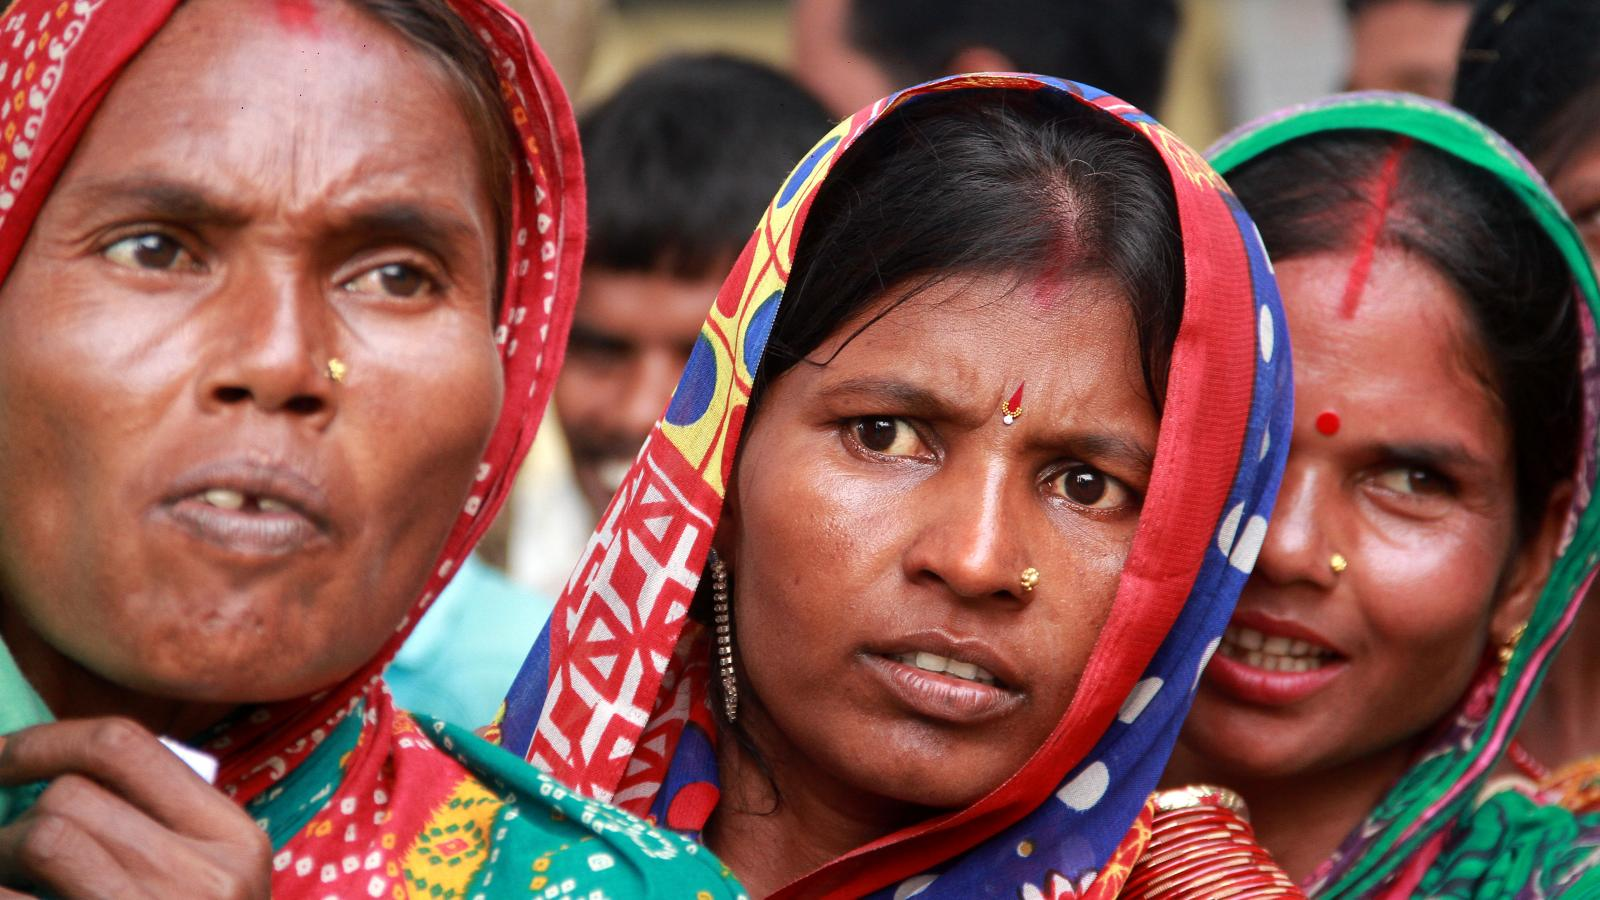human: (1, 1, 763, 899), (550, 39, 1308, 900), (1190, 79, 1600, 900)
